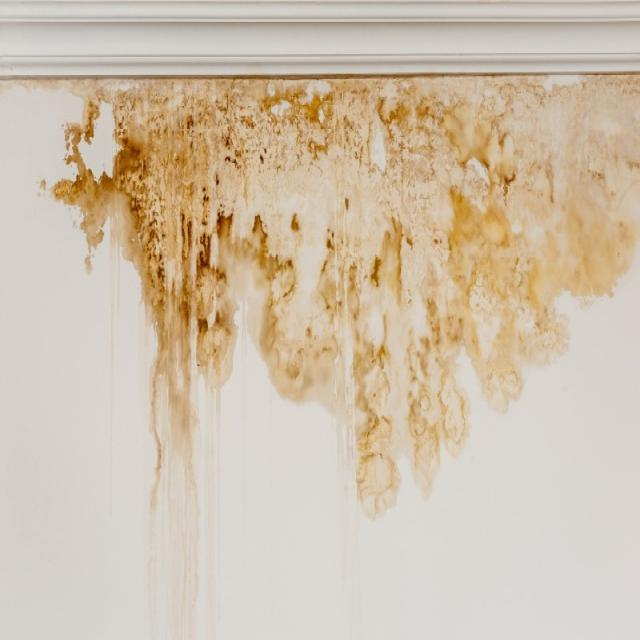wall_stain: (43, 76, 640, 537)
